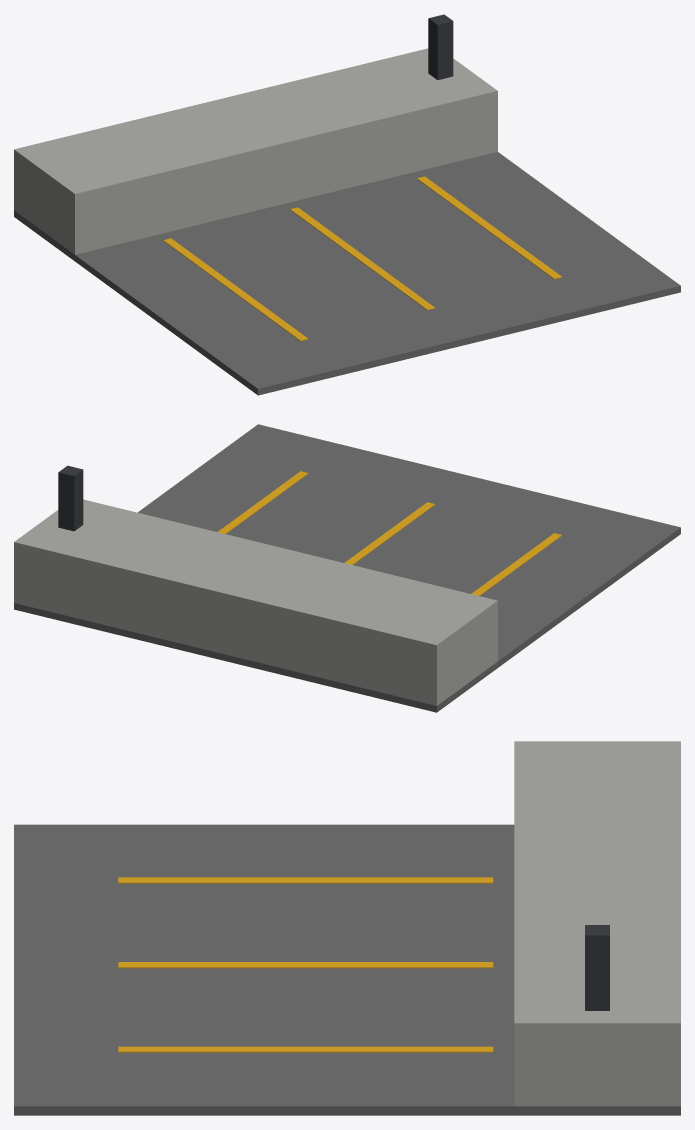
File: road_industrial_v_loading_bay.glb
3 renders of one model, top to bottom at view 1: azimuth 30°, elevation 25°; view 2: azimuth 150°, elevation 25°; view 3: azimuth 270°, elevation 25°, orthographic. The views are drawn at different scales.
Visible parts, largest first — view 1: body; view 2: body; view 3: body.
Boxes of the visible parts, x1,y1,x2,y2 form: body: [14, 14, 680, 395]; body: [14, 424, 680, 712]; body: [14, 741, 680, 1115].
Size of what is drawn, in the model's own units: 8 by 2.22 by 8.
